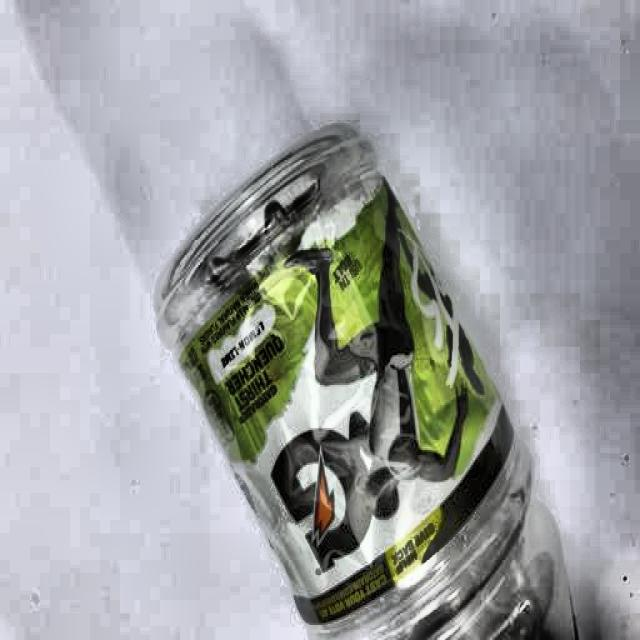plastic: (150, 124, 580, 640)
